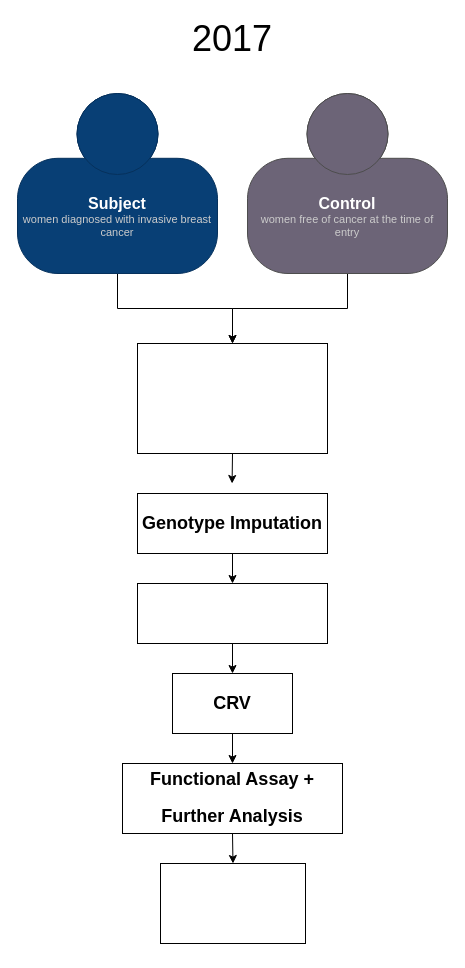
The diagram is 465 pixels wide and 968 high, and some of its shapes have lost their labels. Here are the shapes that lost their labels. From the top down, the centre of each, then its label:
the point at 232,398: OncoArray Calling and QC (ONCOARRAY)
the point at 232,613: Analyses
the point at 233,903: Clinically Relevant Variants
